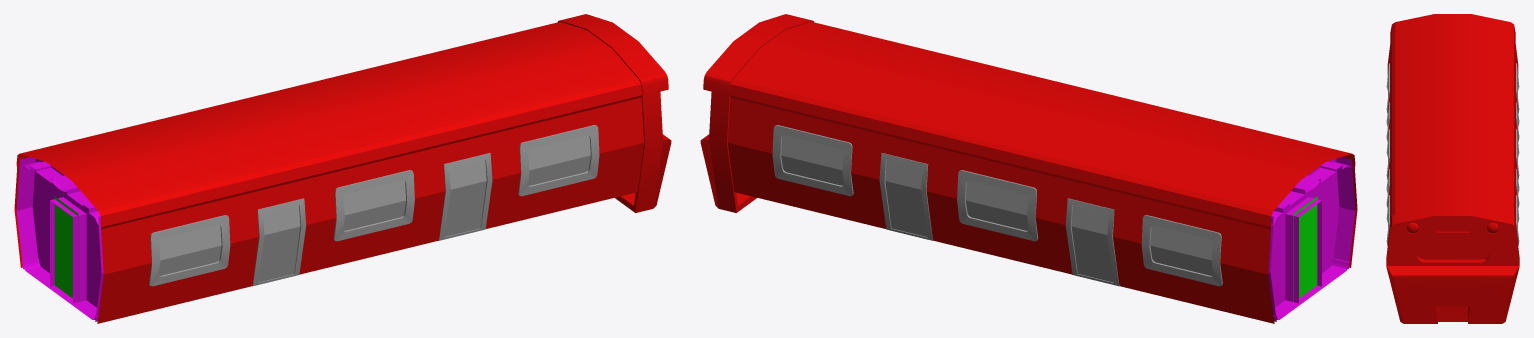
The model's file is Train.fbx.
The picture shows the model from 3 angles, left to right: view 1: azimuth 30°, elevation 25°; view 2: azimuth 150°, elevation 25°; view 3: azimuth 270°, elevation 25°; orthographic projection. The views are drawn at different scales.
Visible parts, largest first — view 1: polySurface21, pPlane29, pPlane32; view 2: polySurface21, pPlane29, pPlane32; view 3: polySurface21.
Boxes of the visible parts, x1,y1,x2,y2 form: polySurface21: (14, 14, 671, 323); pPlane29: (276, 160, 486, 277); pPlane32: (258, 164, 467, 282); polySurface21: (700, 14, 1357, 323); pPlane29: (885, 160, 1095, 277); pPlane32: (904, 164, 1113, 282); polySurface21: (1386, 14, 1519, 323).
Size of the model in its own units: 5565 by 1383 by 1537.
